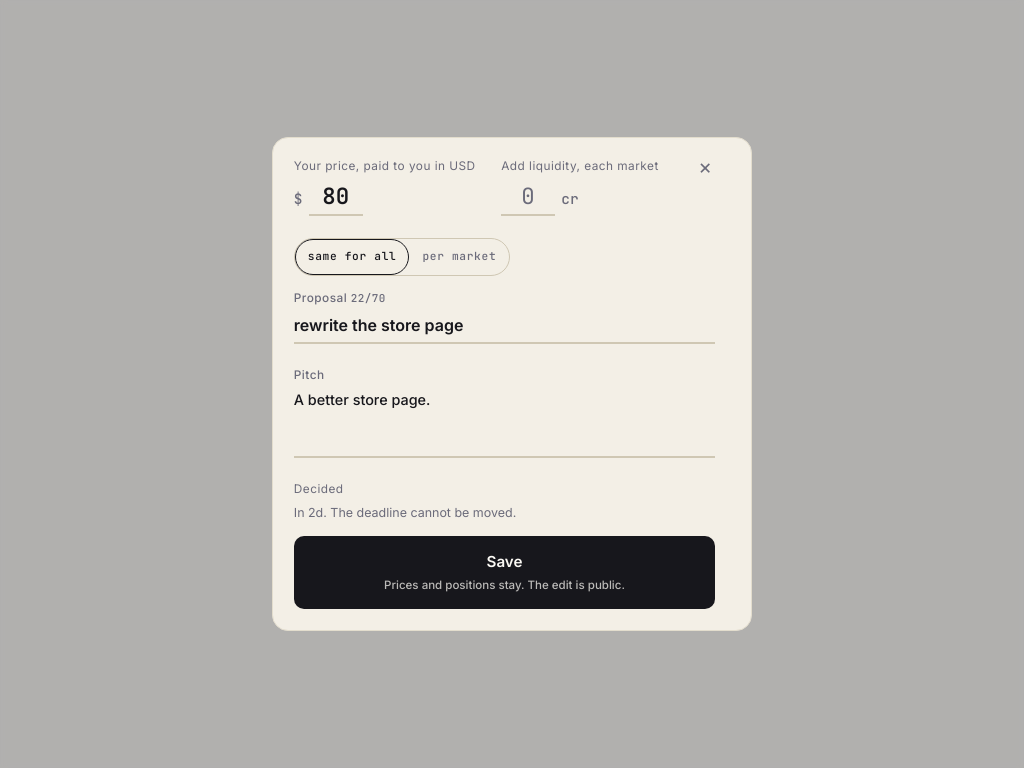
Test: a refused save stays open and says why › the error is shown and the form does not close
The width and height of the screenshot is (1024, 768).
Type "500" into the field named "each market" at (528, 198), box [501, 180, 555, 216]
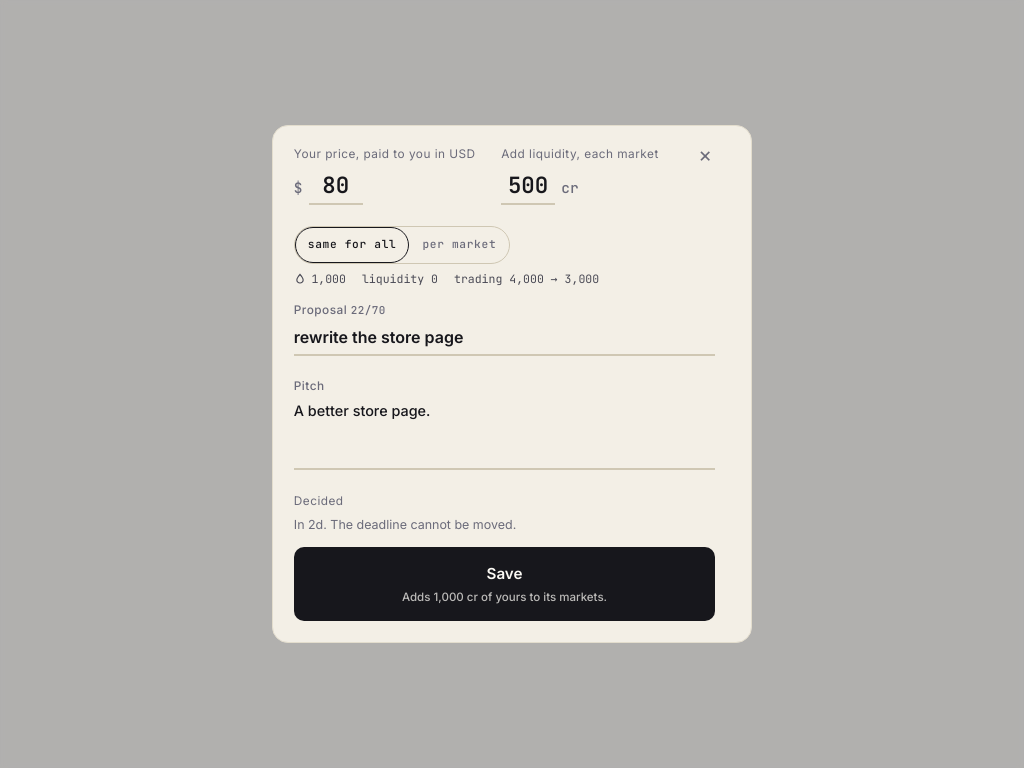
Click the button with class "ticket-go" at (504, 584), box [294, 547, 715, 621]
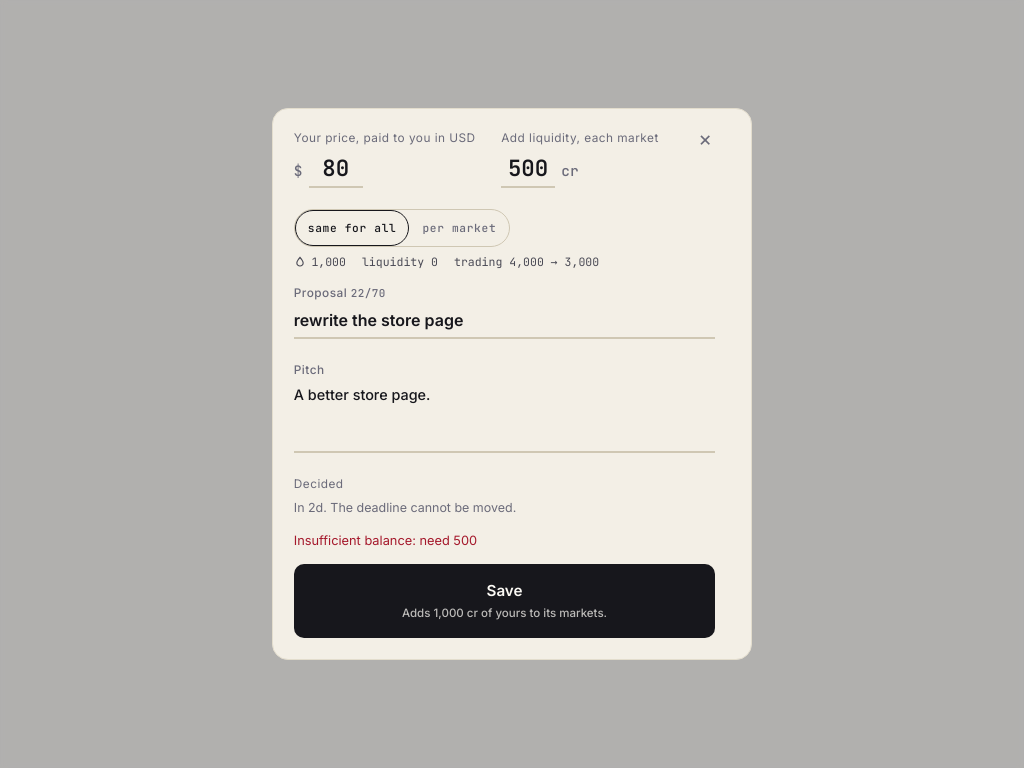
Expected: the button with class "ticket-go" is enabled, [294, 564, 715, 638]
Now the text "Insufficient balance: need 500" is shown, box [294, 532, 477, 548]
